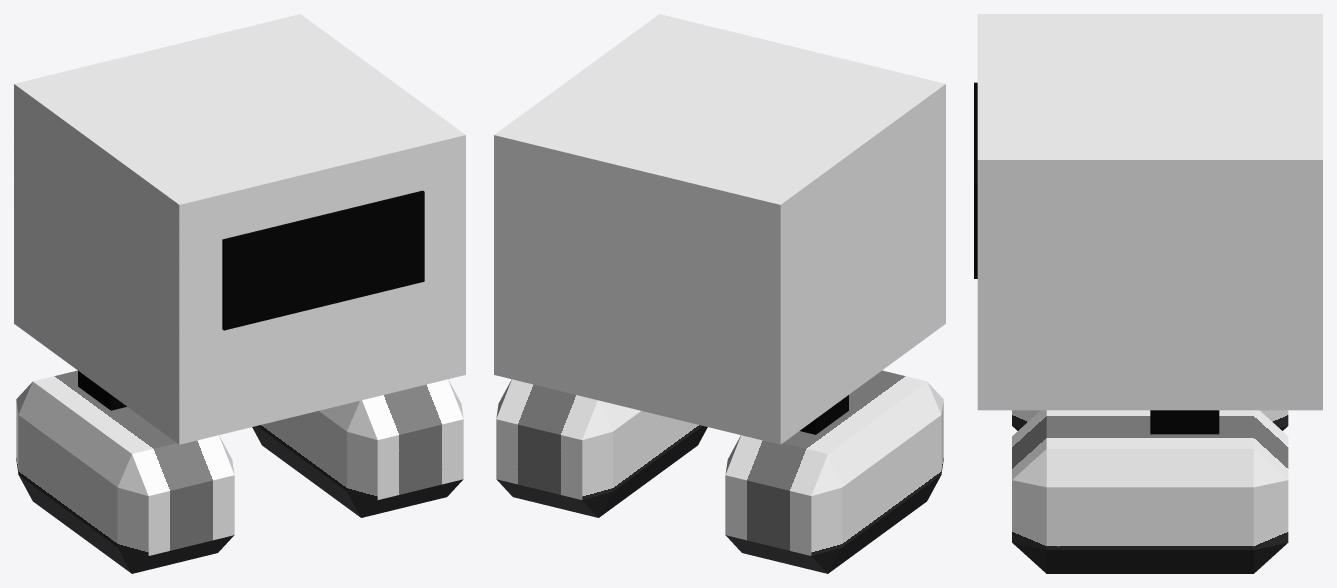
Rendered from plsyer起動前01.fbx.
3 renders of one model, left to right at view 1: azimuth 30°, elevation 25°; view 2: azimuth 150°, elevation 25°; view 3: azimuth 270°, elevation 25°, orthographic. The views are drawn at different scales.
Parts seen in each view (by area): view 1: Playerbody, player right shose, player left shose, mesh, player right leg; view 2: Playerbody, player right shose, player left shose, player right leg; view 3: Playerbody, player left shose, player left leg, mesh, player right shose.
Boxes of the visible parts, left/top/right/bottom form: Playerbody: left=14, top=14, right=465, bottom=444; player right shose: left=16, top=370, right=234, bottom=573; player left shose: left=252, top=379, right=463, bottom=517; mesh: left=222, top=190, right=424, bottom=330; player right leg: left=78, top=371, right=126, bottom=410; Playerbody: left=494, top=14, right=945, bottom=444; player right shose: left=725, top=370, right=943, bottom=573; player left shose: left=496, top=379, right=707, bottom=517; player right leg: left=800, top=395, right=848, bottom=434; Playerbody: left=977, top=14, right=1322, bottom=410; player left shose: left=1012, top=410, right=1288, bottom=573; player left leg: left=1150, top=410, right=1219, bottom=434; mesh: left=974, top=82, right=977, bottom=278; player right shose: left=1012, top=410, right=1288, bottom=430.
Size of the model in its own units: 37.5 by 40.62 by 31.56.
Materials: 4 (4 with a texture image).
